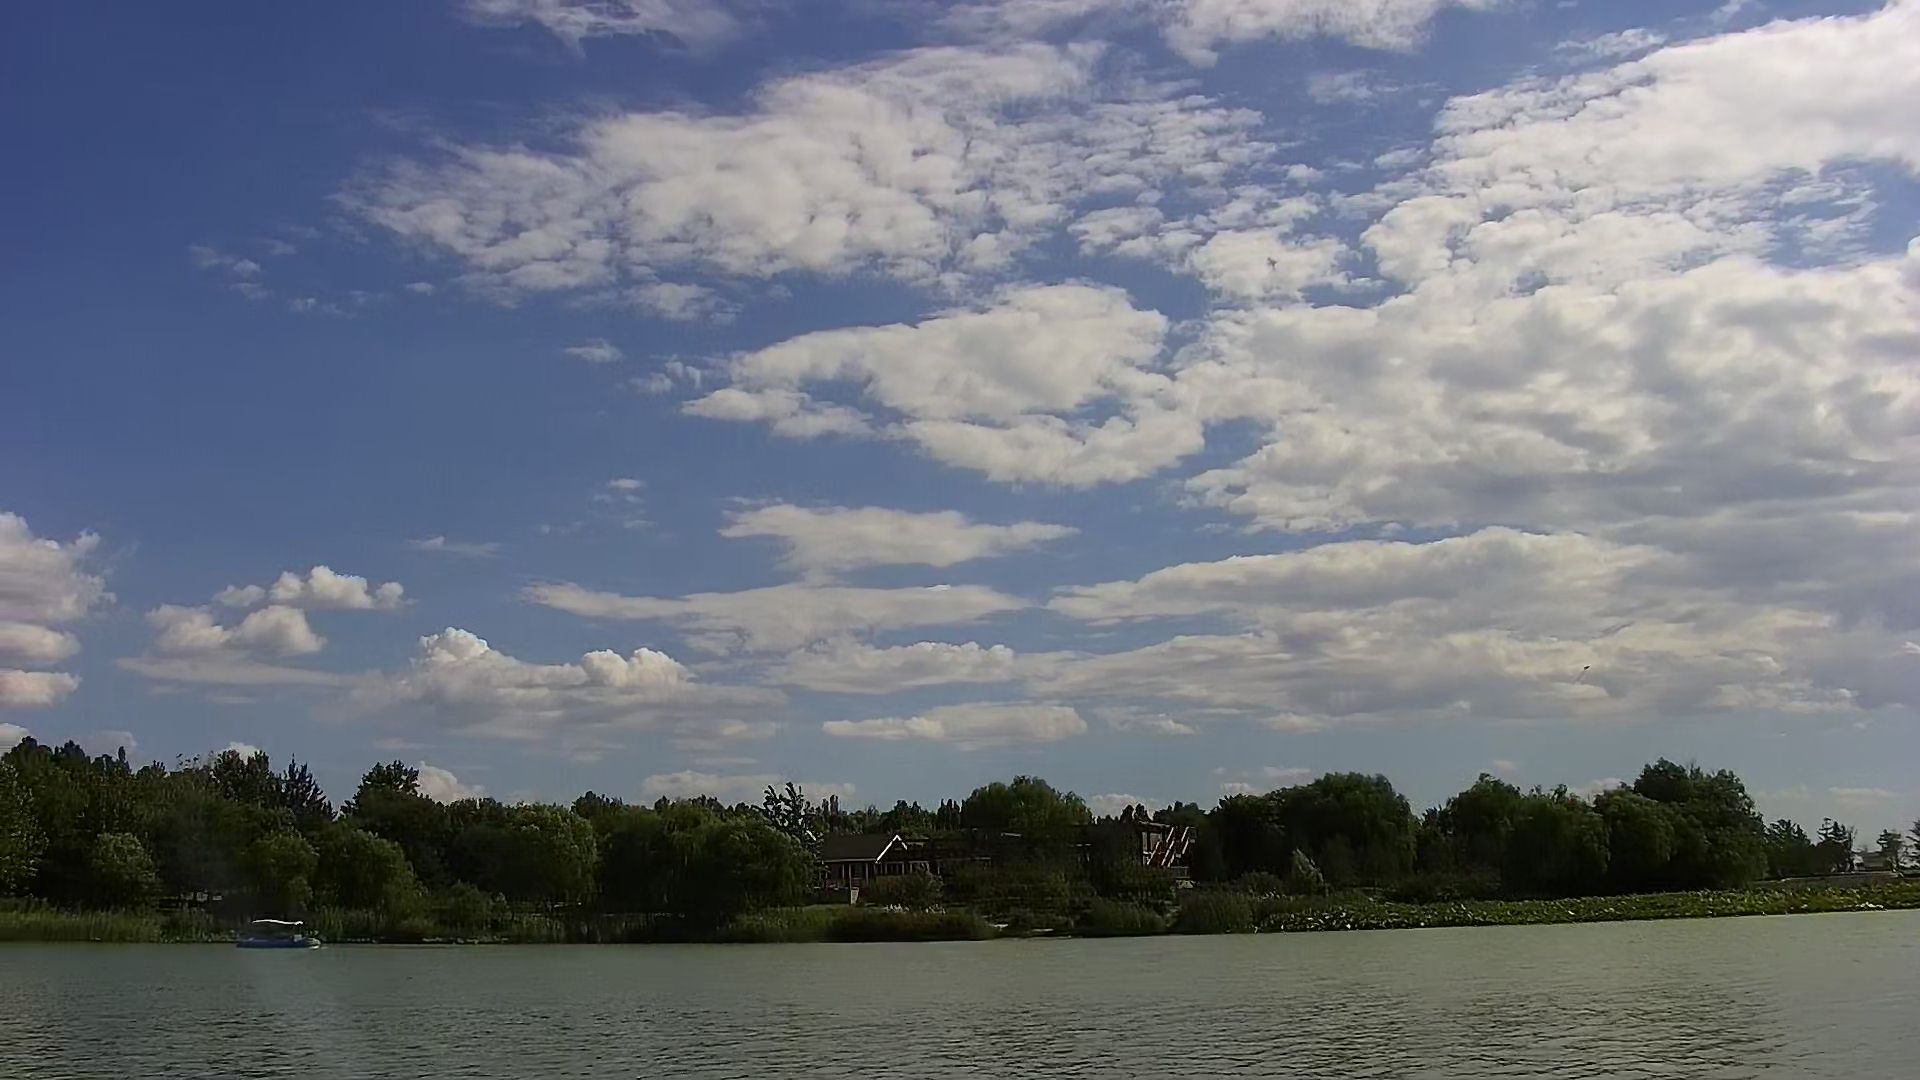boat: (233, 909, 324, 957)
